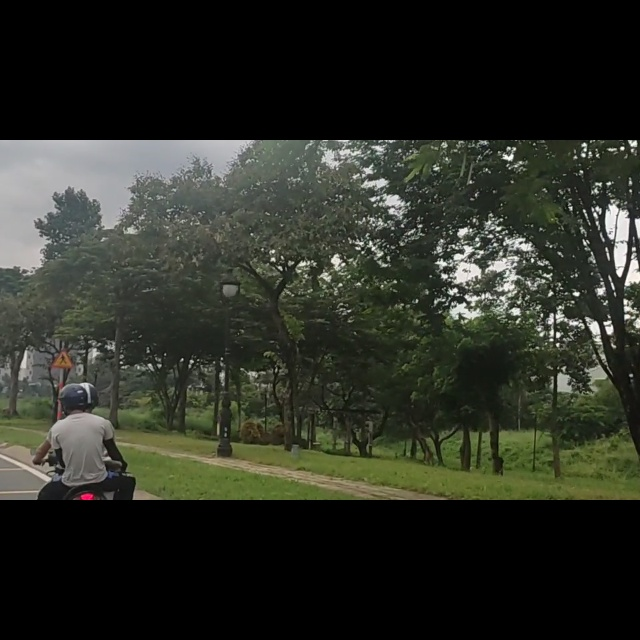bien_nguy_hiem: (51, 369, 74, 405)
